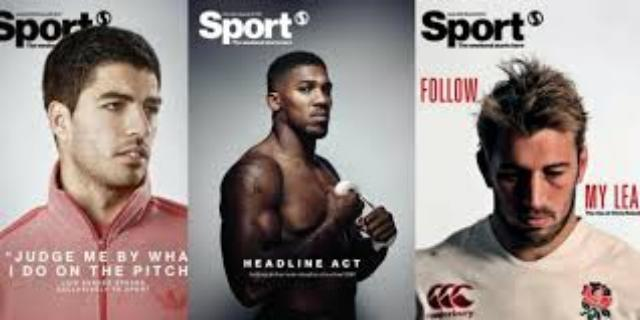cardboard paper: (187, 0, 409, 314), (415, 0, 636, 314)
